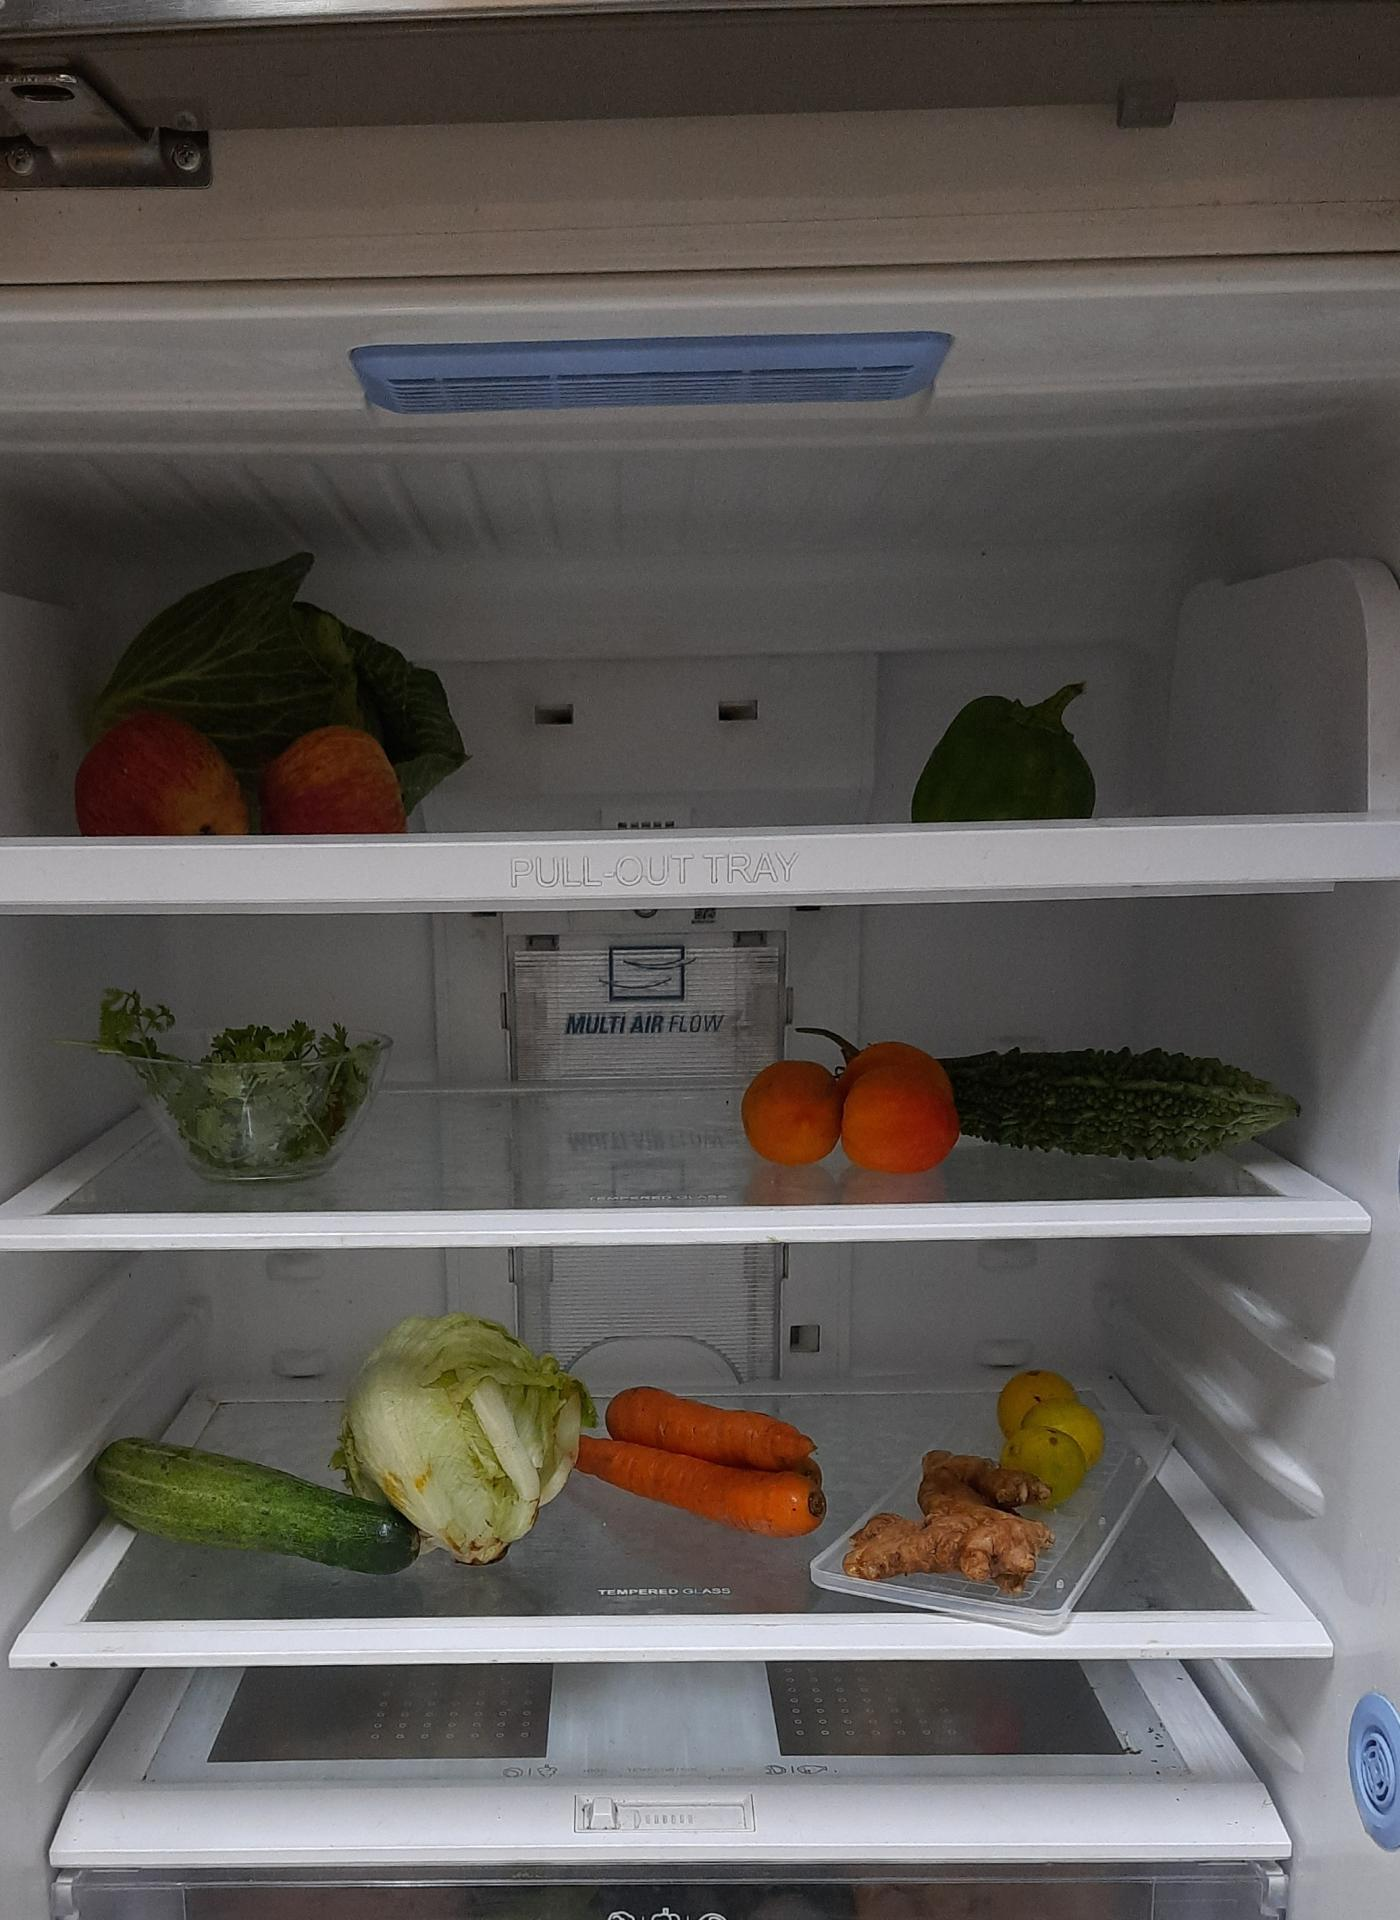apple: (75, 707, 414, 836)
bitter gourd: (938, 1045, 1300, 1158)
cabbage: (95, 556, 467, 833)
capsicum: (908, 684, 1100, 826)
carrots: (574, 1391, 826, 1544)
cauliflower: (337, 1316, 587, 1564)
coriander: (110, 1006, 385, 1179)
cucumber: (92, 1436, 419, 1574)
ginger: (836, 1450, 1057, 1594)
lemon: (997, 1368, 1103, 1512)
tomato: (740, 1043, 962, 1175)
